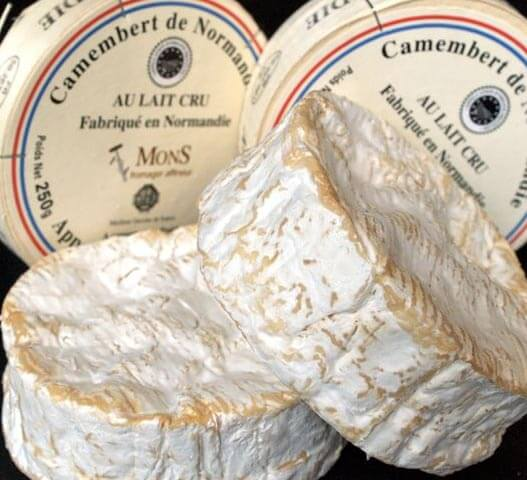camembert: (195, 89, 527, 475), (2, 228, 191, 480)
